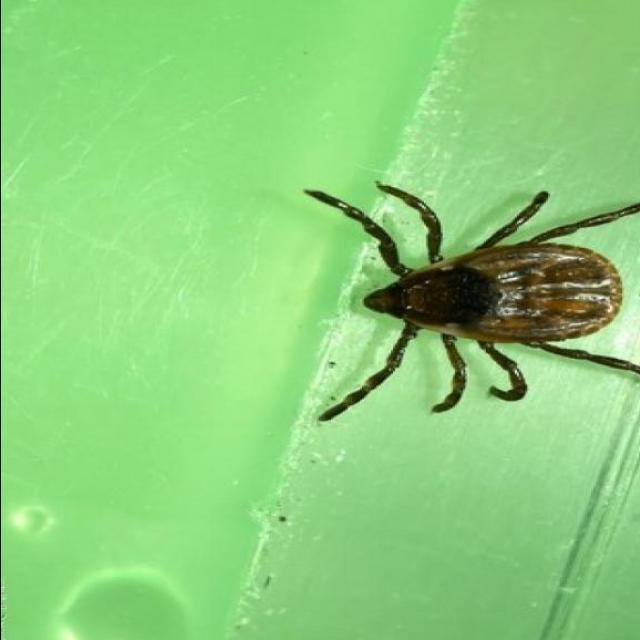Rhipicephalus Sanguineus-F: (305, 181, 640, 421)
